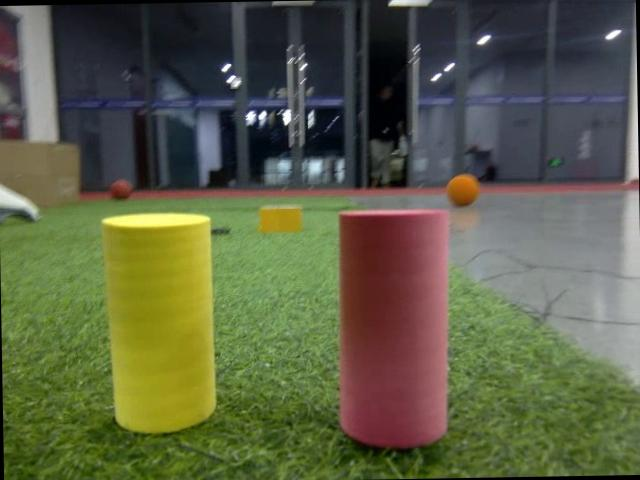orange_ball: (446, 174, 480, 208)
red_ball: (110, 178, 132, 202)
red_cylinder: (335, 202, 454, 452)
yellow_cylinder: (92, 208, 225, 435)
